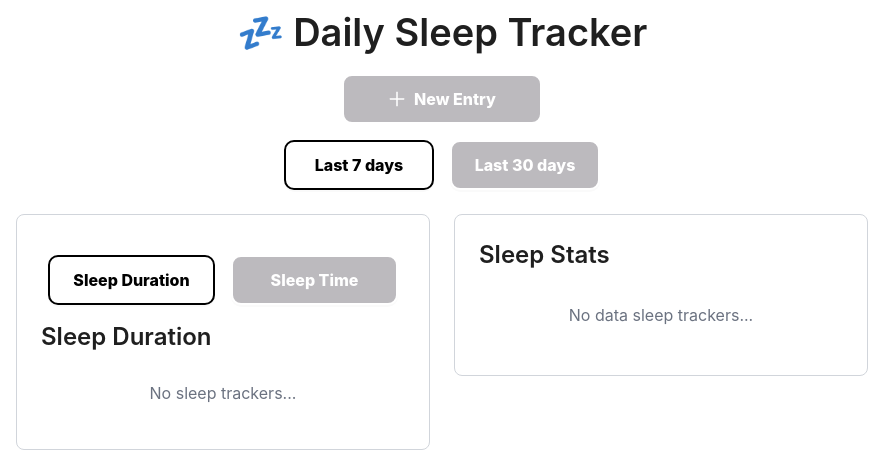
Scenario: HomePageUser › chuyển sang biểu đồ sleep time
Click the button "Sleep Time" at (314, 280), box [231,255,398,305]
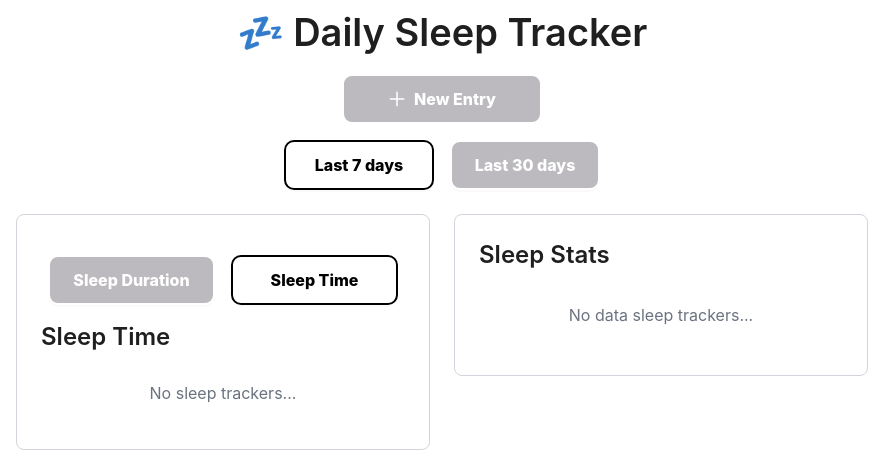
Expected: the heading "Sleep Time" is shown, [41,322,170,351]
